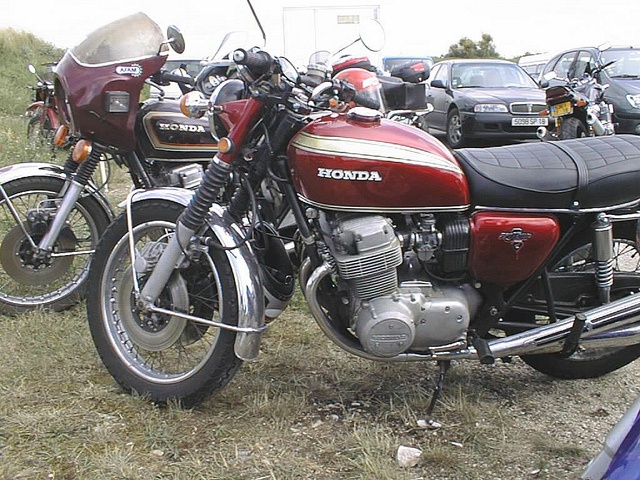non-vehicle: (85, 47, 640, 428), (2, 13, 239, 318), (536, 41, 620, 142)
